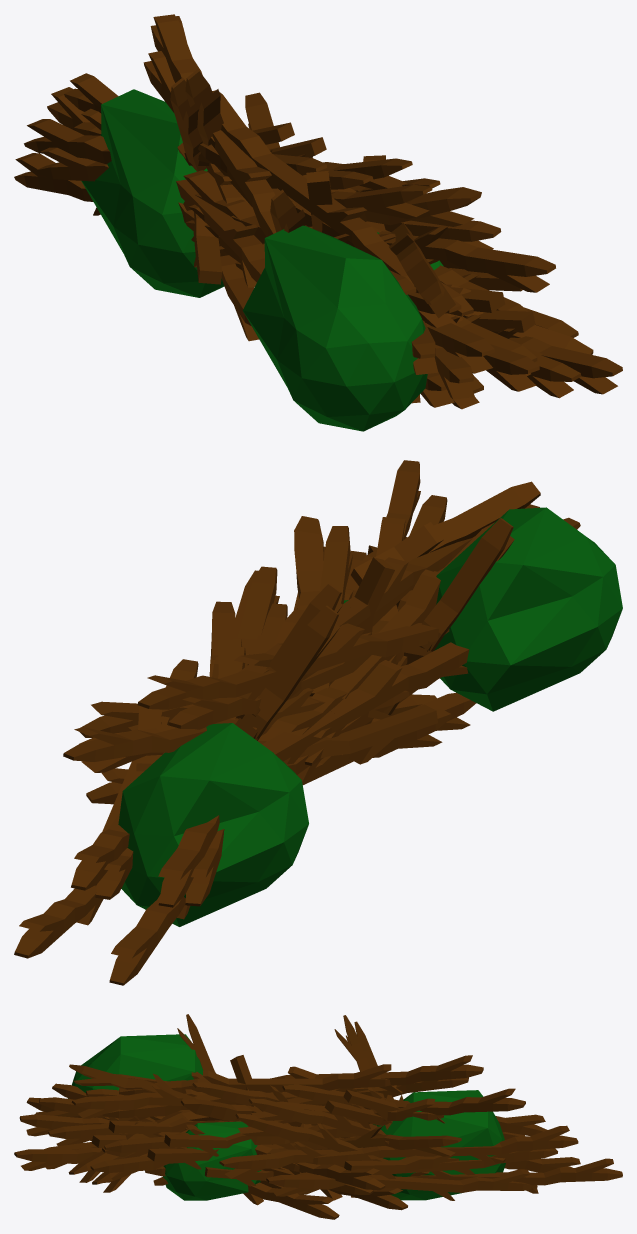
The model's file is DamOhDamV1.fbx.
The picture shows the model from 3 angles, top to bottom: view 1: azimuth 30°, elevation 25°; view 2: azimuth 150°, elevation 25°; view 3: azimuth 270°, elevation 25°; orthographic projection. The views are drawn at different scales.
Parts seen in each view (by area): view 1: Icosphere.001, Icosphere, Cube.049, Cube.002, Cube.001, Cube.051, Cube.098, Cube.089, Cube.007, Cube.092, Cube.085, Cube.008 (+38 smaller); view 2: Icosphere.001, Icosphere, Cube.019, Cube.098, Cube.100, Cube, Cube.007, Cube.053, Cube.008, Cube.010, Cube.082, Cube.094 (+28 smaller); view 3: Icosphere, Icosphere.001, Icosphere.002, Cube.076, Cube.073, Cube.080, Cube.002, Cube.087, Cube.049, Cube.082, Cube.077, Cube.008 (+46 smaller).
Boxes of the visible parts, x1,y1,x2,y2 form: Icosphere.001: (242,225,427,431); Icosphere: (81,89,224,297); Cube.049: (378,225,555,292); Cube.002: (212,90,308,206); Cube.001: (302,193,418,293); Cube.051: (497,328,622,394); Cube.098: (389,223,455,318); Cube.089: (355,187,481,226); Cube.007: (219,142,276,236); Cube.092: (24,119,111,163); Cube.085: (331,184,432,218); Cube.008: (150,14,233,155); Icosphere.001: (434,507,622,711); Icosphere: (118,723,308,926); Cube.019: (330,642,469,727); Cube.098: (351,481,540,585); Cube.100: (235,605,339,740); Cube: (383,518,514,715); Cube.007: (305,623,449,674); Cube.053: (258,704,437,764); Cube.008: (137,670,275,709); Cube.010: (63,718,238,761); Cube.082: (14,885,103,958); Cube.094: (109,894,190,985); Icosphere: (373,1090,505,1200); Icosphere.001: (68,1034,202,1098); Icosphere.002: (163,1121,261,1200); Cube.076: (401,1169,537,1200); Cube.073: (235,1113,362,1152); Cube.080: (442,1125,578,1163); Cube.002: (259,1064,391,1091); Cube.087: (248,1098,378,1136); Cube.049: (71,1084,194,1118); Cube.082: (482,1158,622,1193); Cube.077: (219,1141,334,1178); Cube.008: (347,1055,483,1093).
Size of the model in its own units: 316 by 268 by 872.
